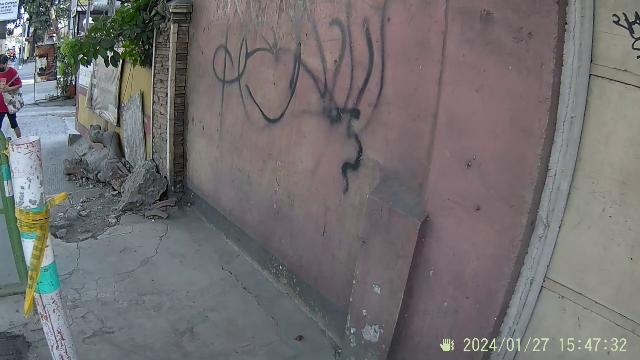cracked_pavement: (51, 121, 165, 247)
